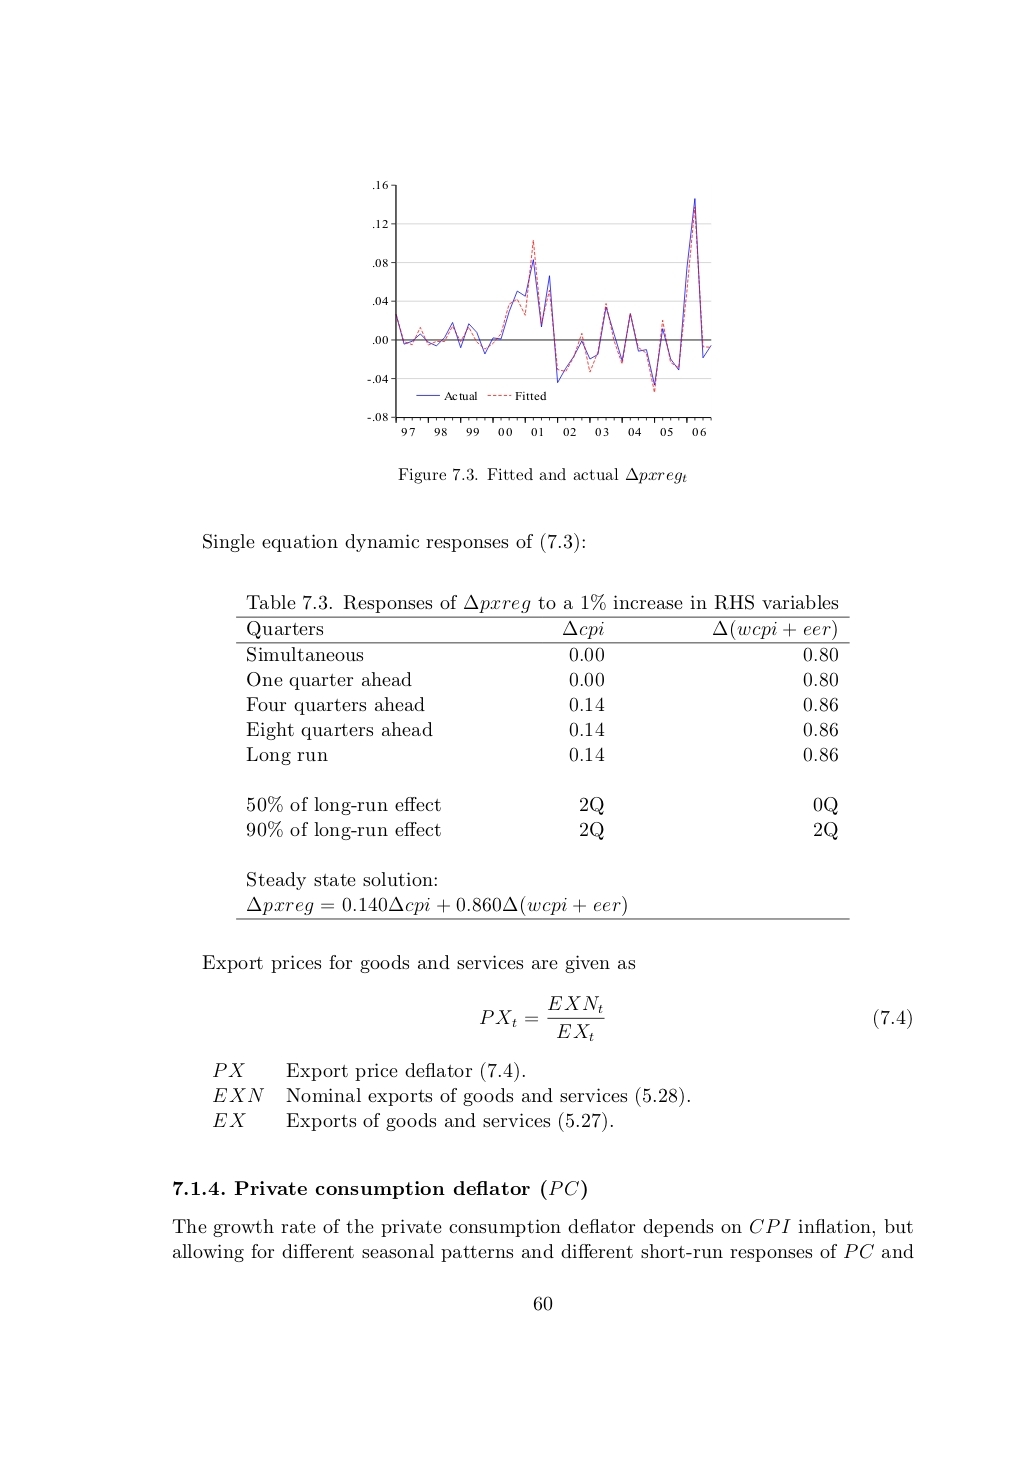Table: (236, 594, 849, 919)
figure: (367, 180, 711, 436)
formula: (480, 995, 911, 1042)
